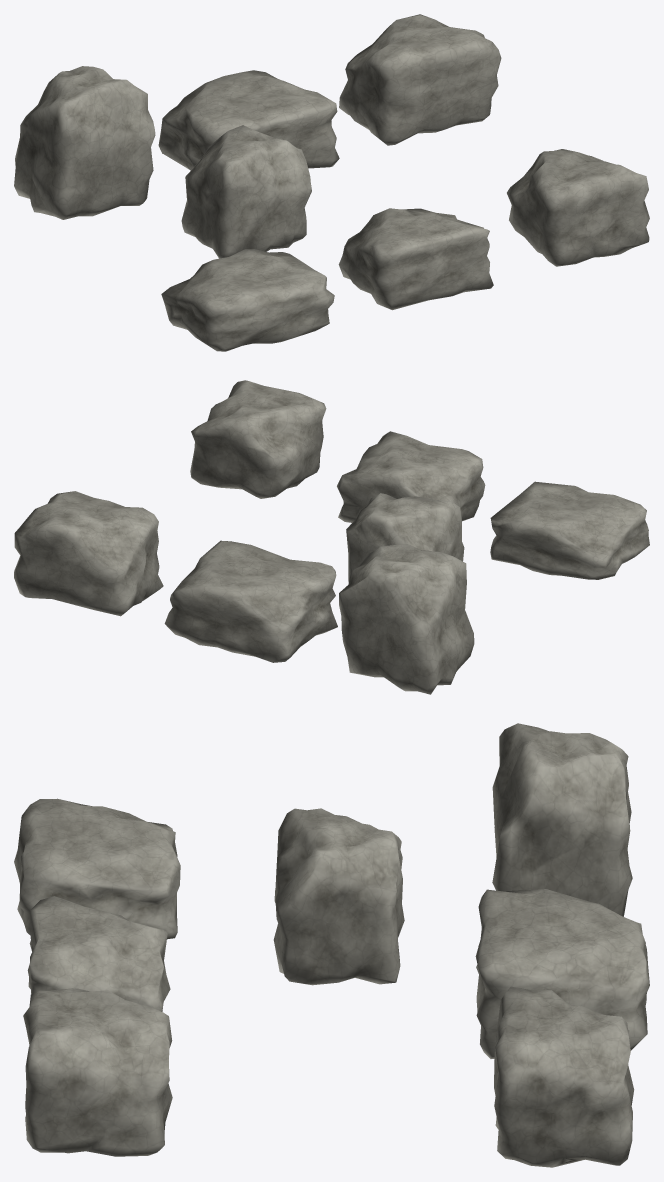
Rendered from reference_rocks_set.glb.
The picture shows the model from 3 angles, top to bottom: view 1: azimuth 30°, elevation 25°; view 2: azimuth 150°, elevation 25°; view 3: azimuth 270°, elevation 25°; orthographic projection. The views are drawn at different scales.
Parts seen in each view (by area): view 1: Rock_01, Rock_03, Rock_04, Rock_07, Rock_05, Rock_06, Rock_02; view 2: Rock_01, Rock_02, Rock_03, Rock_07, Rock_05, Rock_06, Rock_04; view 3: Rock_07, Rock_01, Rock_03, Rock_04, Rock_02, Rock_05, Rock_06.
Boxes of the visible parts, bbox=[...] form: Rock_01: bbox=[14, 66, 155, 219]; Rock_03: bbox=[339, 14, 501, 145]; Rock_04: bbox=[181, 125, 311, 258]; Rock_07: bbox=[507, 149, 649, 266]; Rock_05: bbox=[161, 249, 334, 351]; Rock_06: bbox=[338, 208, 493, 310]; Rock_02: bbox=[158, 70, 339, 170]; Rock_01: bbox=[339, 543, 474, 694]; Rock_02: bbox=[164, 540, 337, 662]; Rock_03: bbox=[14, 491, 163, 616]; Rock_07: bbox=[190, 380, 326, 498]; Rock_05: bbox=[490, 481, 649, 579]; Rock_06: bbox=[337, 431, 485, 522]; Rock_04: bbox=[346, 493, 464, 581]; Rock_07: bbox=[23, 988, 172, 1156]; Rock_01: bbox=[492, 723, 632, 916]; Rock_03: bbox=[494, 986, 634, 1167]; Rock_04: bbox=[273, 808, 404, 985]; Rock_02: bbox=[475, 889, 649, 1058]; Rock_05: bbox=[14, 798, 180, 939]; Rock_06: bbox=[27, 896, 170, 1011].
Size of the model in its own units: 8.65 by 2.22 by 7.39.
Materials: 1 (1 with a texture image).
